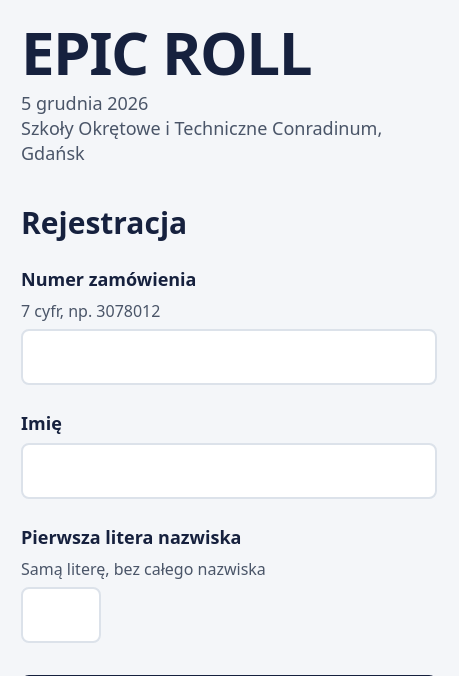
Test case: App › zapis w przeglądarce niemożliwy: ekran z ID i prośba o zrzut ekranu (T8)
In the field labelled "Numer zamówienia": (229, 357) [21,329,437,385], type "3023 567"
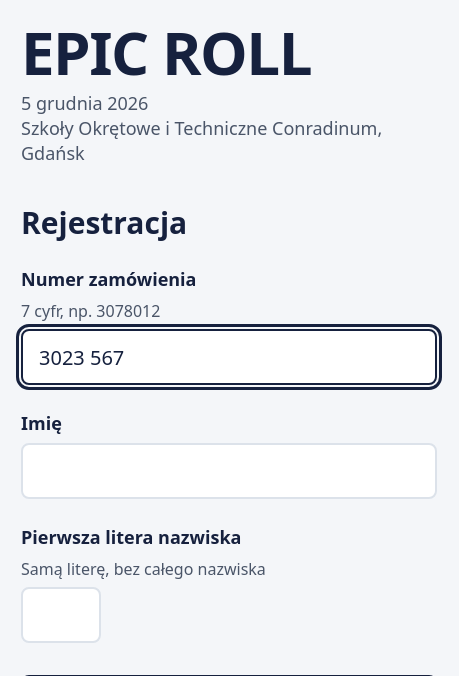
In the field labelled "Imię": (229, 471) [21,443,437,499], type " Jasmina "
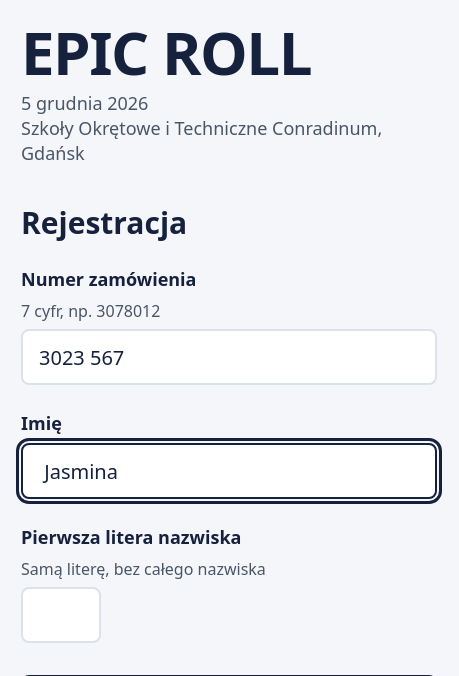
In the field labelled "Pierwsza litera nazwiska": (61, 615) [21,587,101,643], type "k"
(page scrolled)
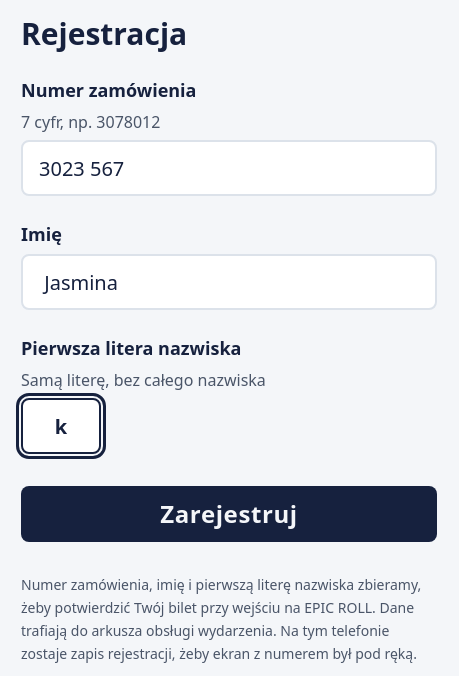
Click the button "Zarejestruj": (229, 514) [21,486,437,542]
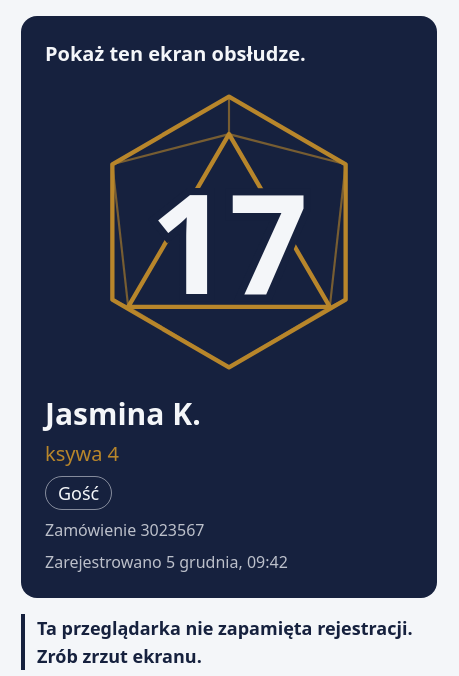
Expected: the picture with test id "registration-id" reads "17", [150,146,308,335]
Expected: the text "Zrób zrzut ekranu" is shown, [37,616,412,668]
